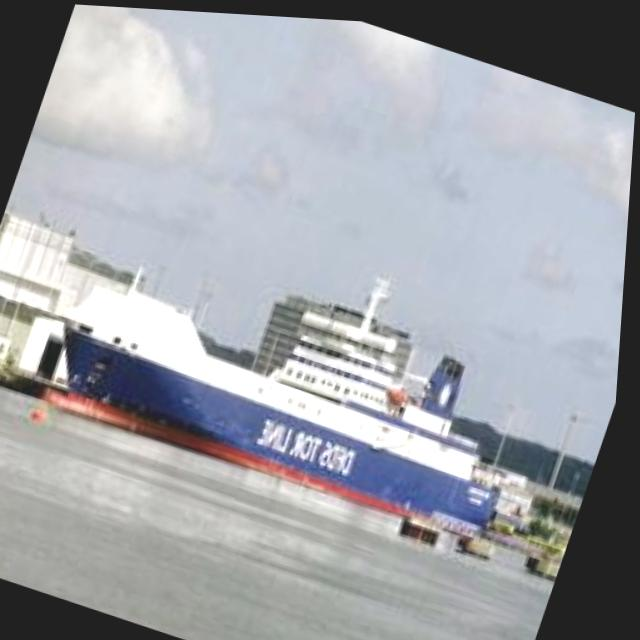ship2: (47, 270, 503, 530)
